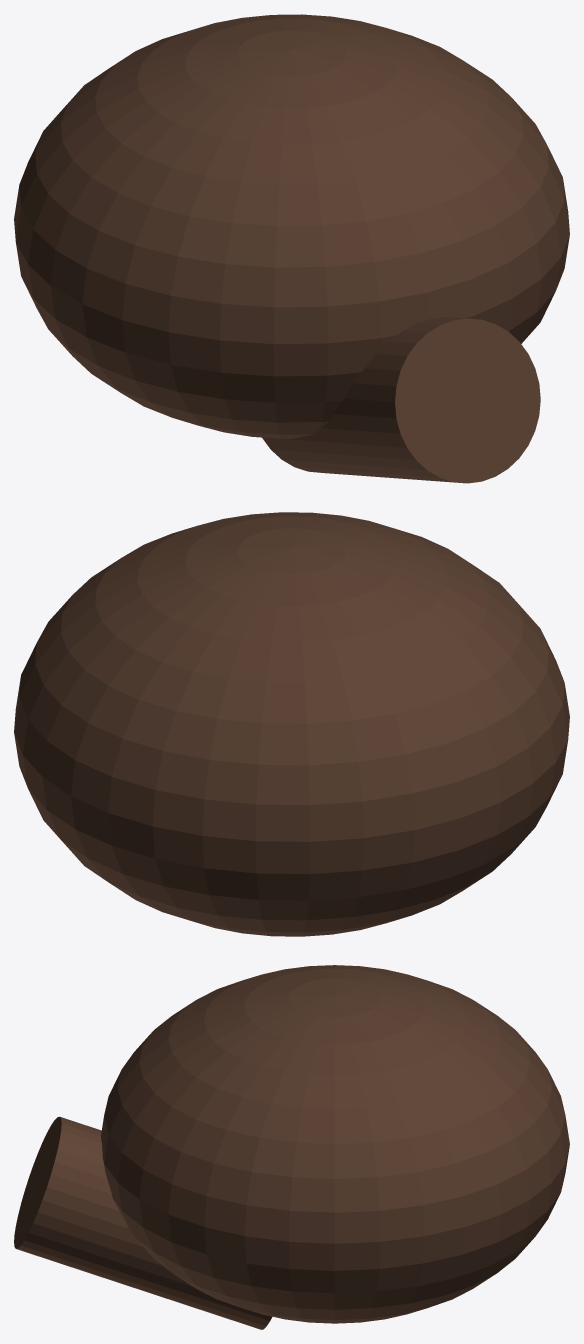
The model's file is hair_style4.glb.
3 views of the same model, one above another, from view 1: azimuth 30°, elevation 25°; view 2: azimuth 150°, elevation 25°; view 3: azimuth 270°, elevation 25° (orthographic). The views are drawn at different scales.
Parts seen in each view (by area): view 1: hair_style4; view 2: hair_style4; view 3: hair_style4.
Part boxes in pixels (x1,y1,x2,y2): hair_style4: [14, 14, 569, 483]; hair_style4: [14, 512, 569, 936]; hair_style4: [14, 965, 569, 1329].
Bounding box in the file's own units: 0.54 × 0.4155 × 0.6383.
